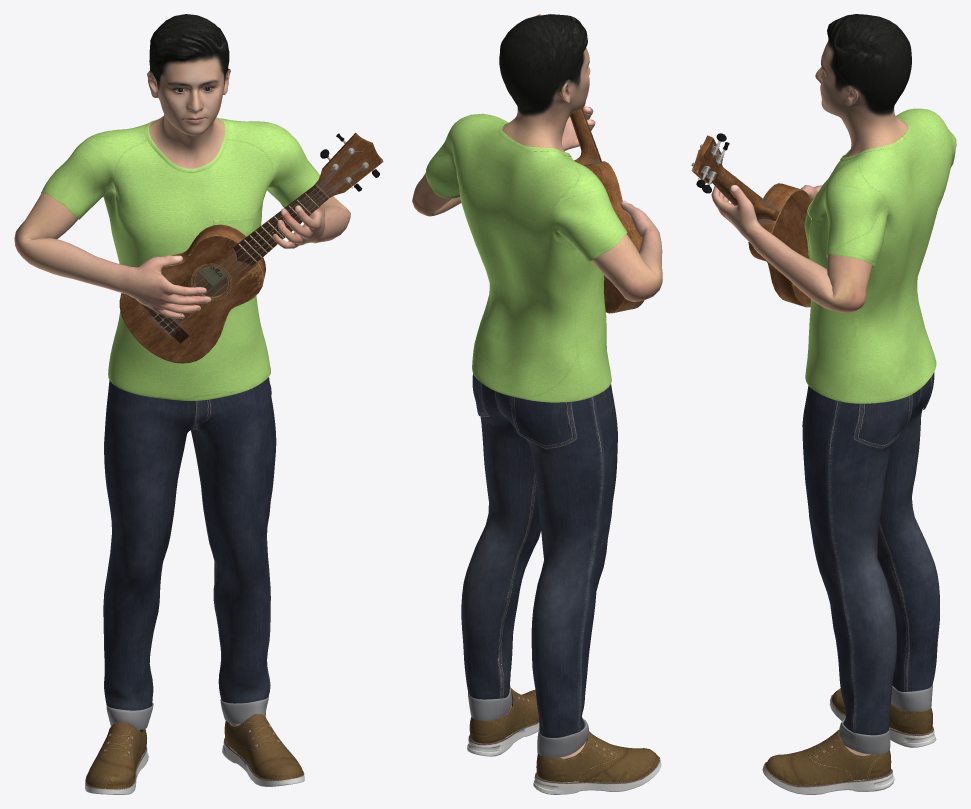
The model's file is musician.glb.
The picture shows the model from 3 angles, left to right: view 1: azimuth 30°, elevation 25°; view 2: azimuth 150°, elevation 25°; view 3: azimuth 270°, elevation 25°; orthographic projection.
Visible parts, largest first — view 1: clothing.002, Ukulele_01, Body.002, Head.002, shoe_L.002; view 2: clothing.002, Head.002, shoe_L.002, Body.002, Ukulele_01; view 3: clothing.002, Head.002, shoe_L.002, Body.002, Ukulele_01.
Part boxes in pixels (x1,y1,x2,y2): clothing.002: (41, 117, 319, 729); Ukulele_01: (119, 132, 383, 363); Body.002: (14, 193, 350, 730); Head.002: (147, 14, 230, 168); shoe_L.002: (85, 714, 304, 794); clothing.002: (425, 113, 627, 757); Head.002: (499, 14, 590, 152); shoe_L.002: (467, 688, 661, 794); Body.002: (412, 103, 662, 759); Ukulele_01: (536, 14, 644, 313); clothing.002: (802, 108, 956, 754); Head.002: (815, 14, 911, 157); shoe_L.002: (762, 688, 936, 794); Body.002: (711, 176, 892, 755); Ukulele_01: (691, 133, 813, 307).
Bounding box in the file's own units: 0.7142 × 1.79 × 0.5824.
Materials: 7 (6 with a texture image).
